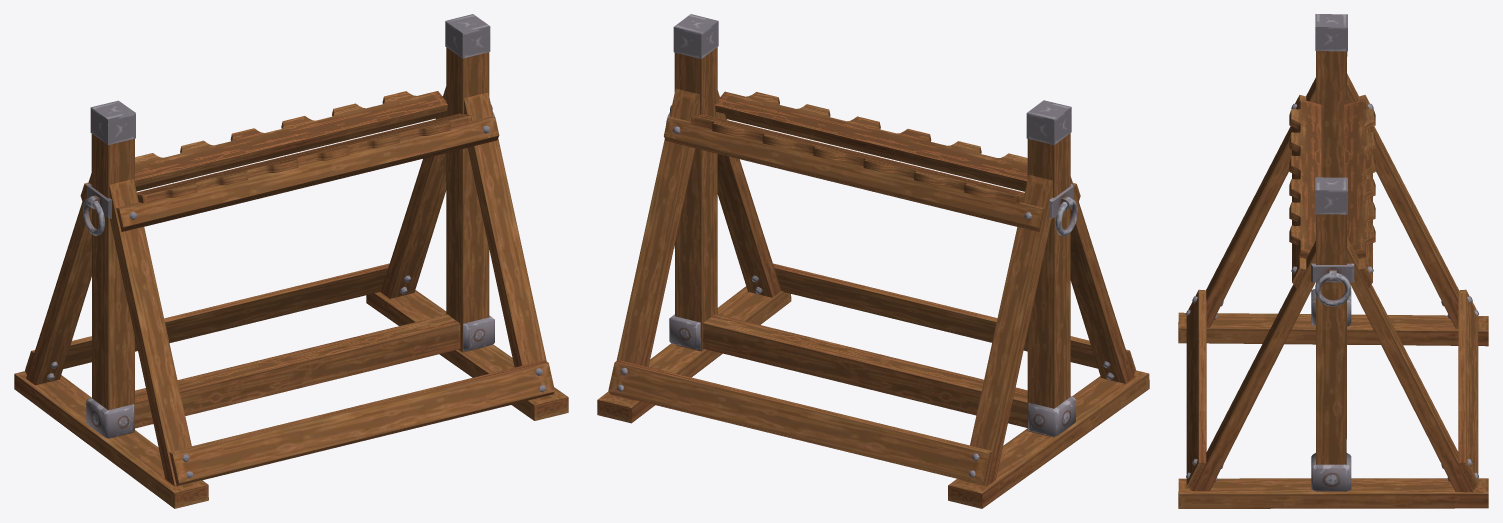
File: WeaponStand.glb
The picture shows the model from 3 angles, left to right: view 1: azimuth 30°, elevation 25°; view 2: azimuth 150°, elevation 25°; view 3: azimuth 270°, elevation 25°; orthographic projection. The views are drawn at different scales.
Visible parts, largest first — view 1: WeaponStand; view 2: WeaponStand; view 3: WeaponStand.
Boxes of the visible parts, box(x1,y1,x2,y2) form: WeaponStand: box(14, 14, 568, 508); WeaponStand: box(597, 14, 1149, 508); WeaponStand: box(1178, 14, 1488, 508).
Size of the model in its own units: 1.39 by 1.11 by 0.9831.
2 materials, 2 textured.
